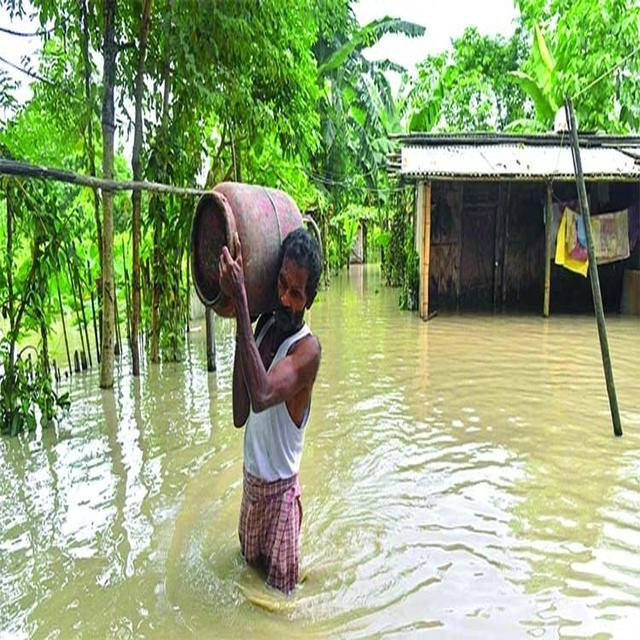Person-RiskLevel2: (165, 178, 350, 603)
